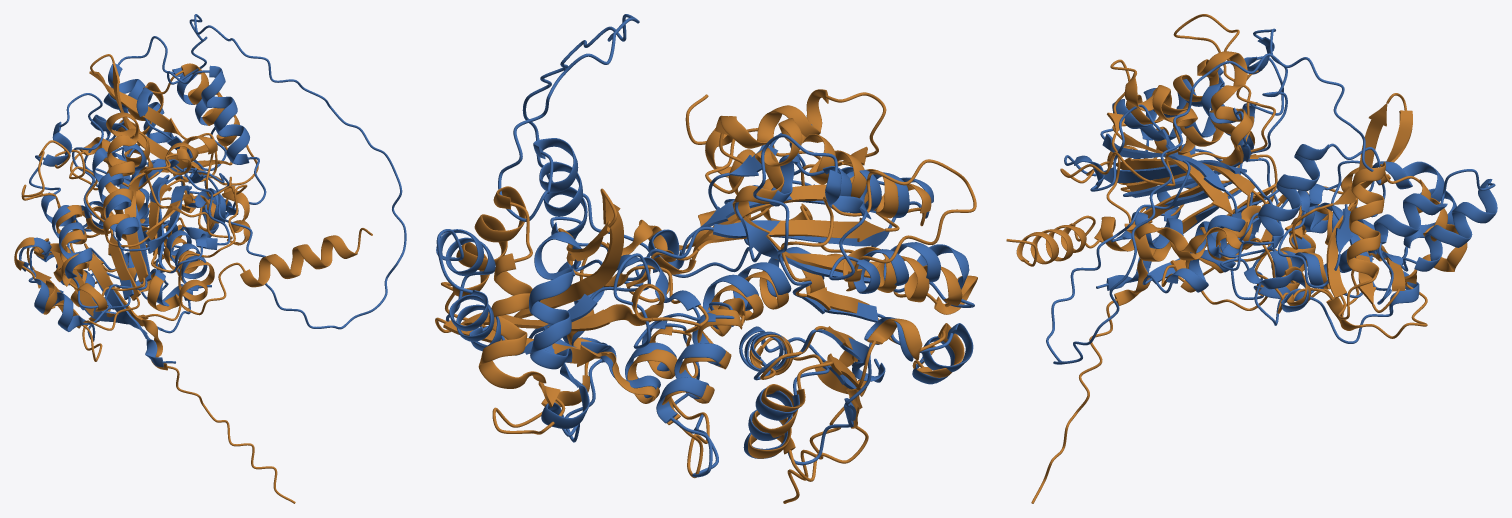
The picture shows the model from 3 angles, left to right: view 1: azimuth 30°, elevation 25°; view 2: azimuth 150°, elevation 25°; view 3: azimuth 270°, elevation 25°; orthographic projection. The views are drawn at different scales.
Size of the model in its own units: 69.54 by 76.88 by 74.36.
